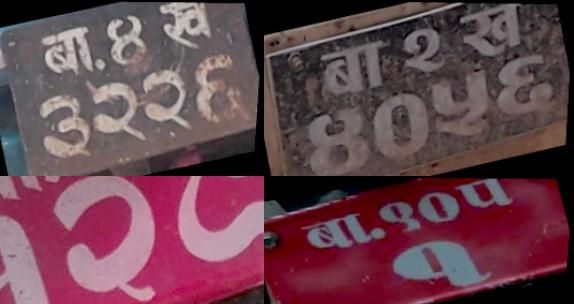0: (364, 85, 442, 167), (411, 188, 464, 225)
1: (383, 231, 503, 297), (0, 201, 75, 304)
2: (40, 176, 181, 304), (84, 73, 156, 158), (133, 60, 201, 143), (394, 21, 458, 82)
3: (30, 82, 104, 170)
4: (299, 100, 383, 176), (98, 8, 158, 72)
5: (424, 65, 504, 146)
6: (487, 45, 572, 125), (184, 47, 258, 131)
9: (151, 176, 264, 279), (373, 197, 429, 237)
ba: (312, 35, 399, 105), (36, 22, 103, 85), (296, 210, 376, 256), (0, 176, 55, 217)
kha: (452, 2, 540, 66), (150, 2, 227, 57)
pa: (453, 178, 515, 211)
